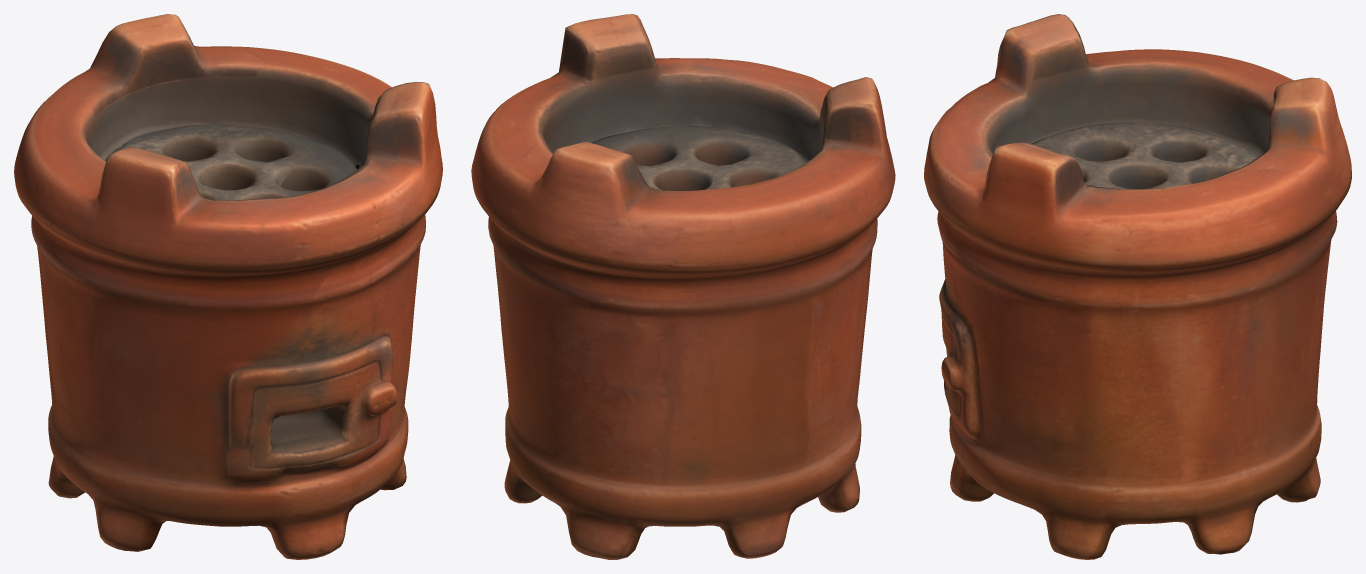
File: StoveB01AI.fbx
3 views of the same model, side by side, from view 1: azimuth 30°, elevation 25°; view 2: azimuth 150°, elevation 25°; view 3: azimuth 270°, elevation 25° (orthographic).
Parts seen in each view (by area): view 1: Retopo_Mesh.001; view 2: Retopo_Mesh.001; view 3: Retopo_Mesh.001.
Boxes of the visible parts, <box> form: Retopo_Mesh.001: <box>14,14,442,559</box>; Retopo_Mesh.001: <box>471,14,895,559</box>; Retopo_Mesh.001: <box>924,14,1351,559</box>.
Size of the model in its own units: 0.9603 by 1 by 0.9591.
